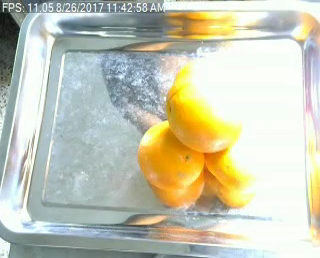Orange: (167, 74, 245, 151), (137, 120, 207, 190)
